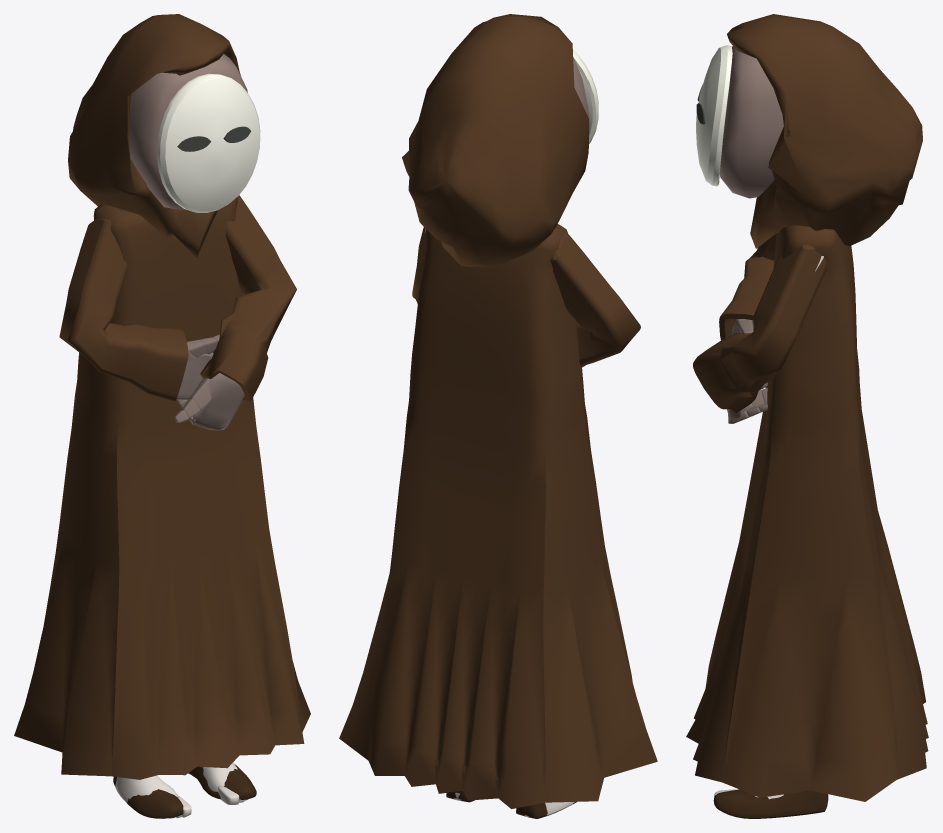
File: Taurus.fbx
The picture shows the model from 3 angles, left to right: view 1: azimuth 30°, elevation 25°; view 2: azimuth 150°, elevation 25°; view 3: azimuth 270°, elevation 25°; orthographic projection.
Parts seen in each view (by area): view 1: polySurface3, Caputxa1, polySurface8, màscara, polySurface9, head_geo, R_palm_R_geo (×2), foot_R_geo, foot_L_geo, foot_R_geo1; view 2: polySurface3, Caputxa1, polySurface8, màscara; view 3: polySurface3, Caputxa1, polySurface9, head_geo, màscara, foot_L_geo, polySurface8.
Part boxes in pixels (<box>): polySurface3: <box>14,197,310,779</box>; Caputxa1: <box>68,14,240,257</box>; polySurface8: <box>59,218,188,401</box>; màscara: <box>157,73,260,212</box>; polySurface9: <box>200,195,296,401</box>; head_geo: <box>129,53,247,210</box>; R_palm_R_geo (×2): <box>176,351,244,430</box>; foot_R_geo: <box>113,776,183,818</box>; foot_L_geo: <box>188,764,256,799</box>; foot_R_geo1: <box>115,775,178,802</box>; polySurface3: <box>339,224,657,808</box>; Caputxa1: <box>402,14,588,267</box>; polySurface8: <box>550,232,640,367</box>; màscara: <box>573,49,598,143</box>; polySurface3: <box>686,225,928,801</box>; Caputxa1: <box>727,14,922,248</box>; polySurface9: <box>693,244,827,413</box>; head_geo: <box>719,46,783,198</box>; màscara: <box>696,45,732,186</box>; foot_L_geo: <box>713,789,828,818</box>; polySurface8: <box>719,233,776,340</box>.
Bounding box in the file's own units: 1.24 × 3.48 × 0.9859.
